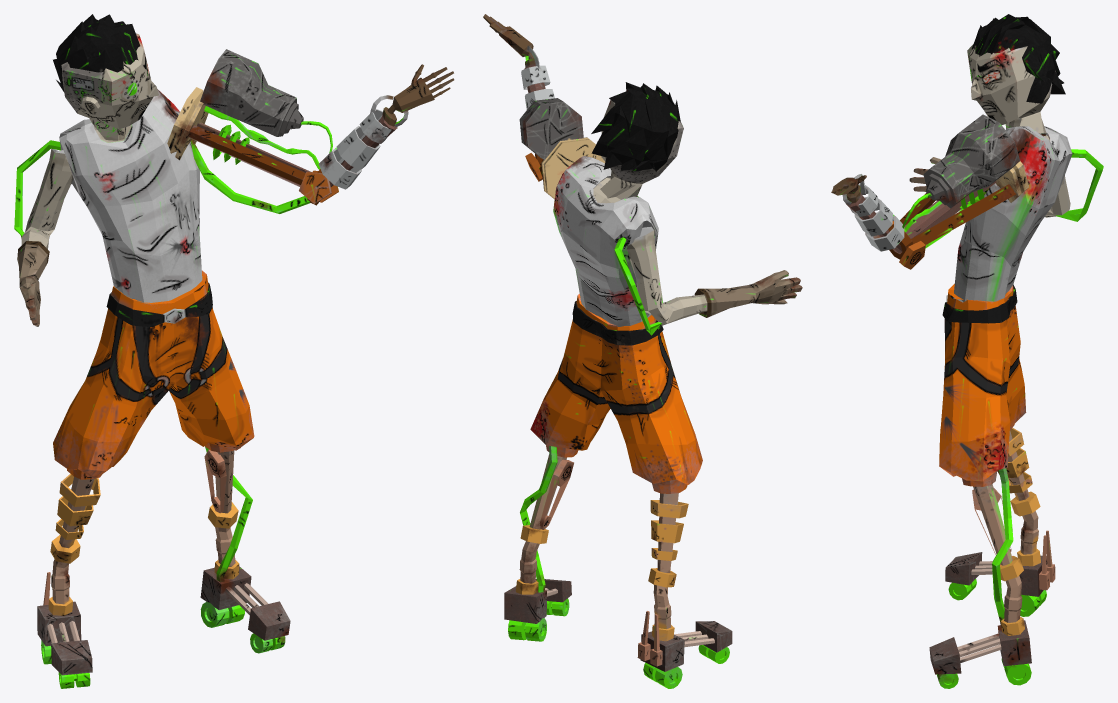
The model's file is CyborgFINALAnimation_000041.obj.
3 renders of one model, left to right at view 1: azimuth 30°, elevation 25°; view 2: azimuth 150°, elevation 25°; view 3: azimuth 270°, elevation 25°, orthographic. The views are drawn at different scales.
Visible parts, largest first — view 1: CyborgMesh_Cube.002; view 2: CyborgMesh_Cube.002; view 3: CyborgMesh_Cube.002.
Part boxes in pixels (left/top/right/bottom): CyborgMesh_Cube.002: left=14, top=14, right=454, bottom=688; CyborgMesh_Cube.002: left=483, top=14, right=802, bottom=688; CyborgMesh_Cube.002: left=831, top=14, right=1103, bottom=688.
Size of the model in its own units: 6.02 by 9.56 by 3.87.
